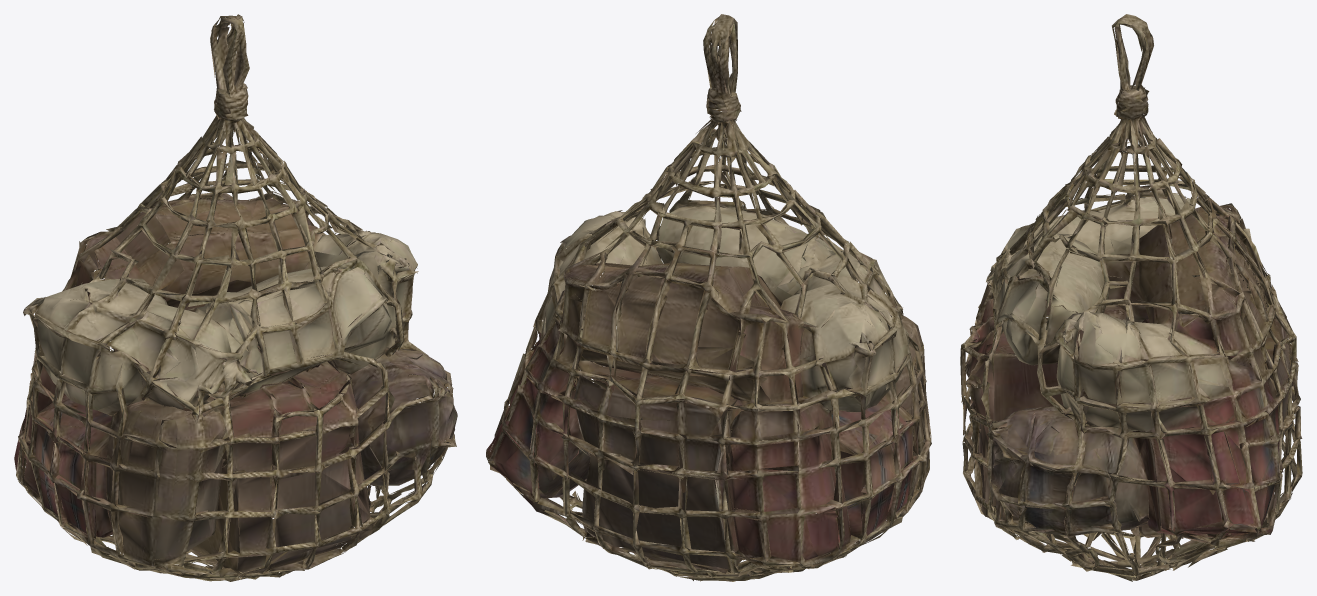
The model's file is cargo-net-bundle.glb.
The picture shows the model from 3 angles, left to right: view 1: azimuth 30°, elevation 25°; view 2: azimuth 150°, elevation 25°; view 3: azimuth 270°, elevation 25°; orthographic projection. The views are drawn at different scales.
Parts seen in each view (by area): view 1: Mesh_0; view 2: Mesh_0; view 3: Mesh_0.
Part boxes in pixels (x1,y1,x2,y2): Mesh_0: (14, 14, 457, 581); Mesh_0: (486, 14, 931, 581); Mesh_0: (960, 14, 1302, 581).
Bounding box in the file's own units: 1.28 × 1.9 × 1.07.
Materials: 1 (1 with a texture image).
